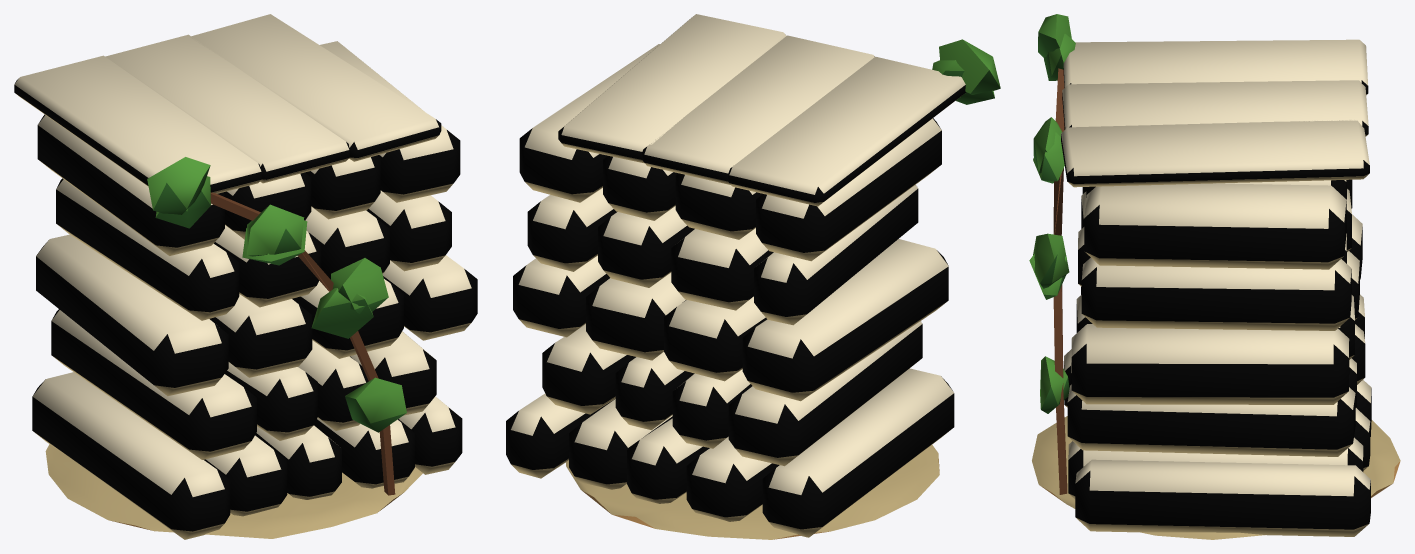
The model's file is StoneWall.fbx.
3 renders of one model, left to right at view 1: azimuth 30°, elevation 25°; view 2: azimuth 150°, elevation 25°; view 3: azimuth 270°, elevation 25°, orthographic. The views are drawn at different scales.
Visible parts, largest first — view 1: StoneWall; view 2: StoneWall; view 3: StoneWall.
Part boxes in pixels (x1,y1,x2,y2): StoneWall: (14,14,477,539); StoneWall: (506,14,1000,539); StoneWall: (1029,14,1400,539).
Bounding box in the file's own units: 1.79 × 1.96 × 1.71.
Materials: 1 (1 with a texture image).
